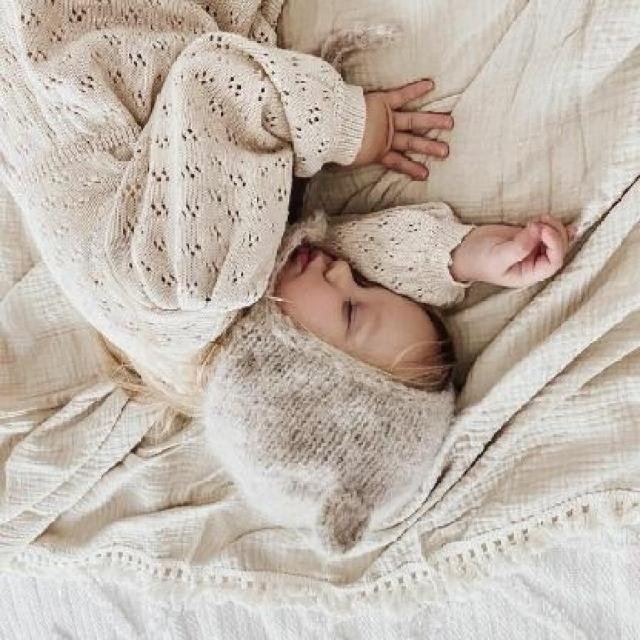child: (13, 40, 576, 543)
